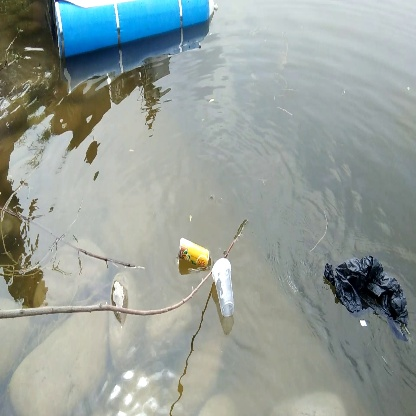bottle: (211, 256, 238, 317), (173, 234, 213, 274)
plastic-bag: (319, 252, 412, 349)
